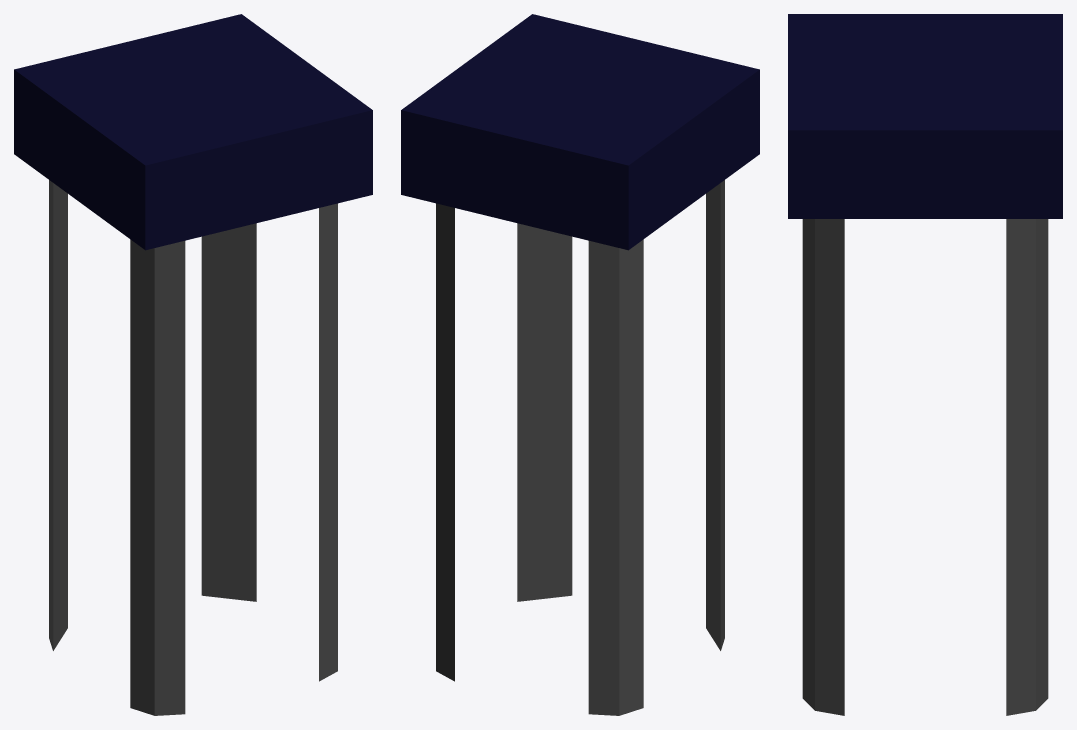
The model's file is barStool.fbx.
The picture shows the model from 3 angles, left to right: view 1: azimuth 30°, elevation 25°; view 2: azimuth 150°, elevation 25°; view 3: azimuth 270°, elevation 25°; orthographic projection. The views are drawn at different scales.
Parts seen in each view (by area): view 1: barStool; view 2: barStool; view 3: barStool.
Boxes of the visible parts, <box> form: barStool: <box>14,14,372,715</box>; barStool: <box>401,14,759,715</box>; barStool: <box>788,14,1062,715</box>.
Size of the model in its own units: 0.32 by 0.76 by 0.32.
